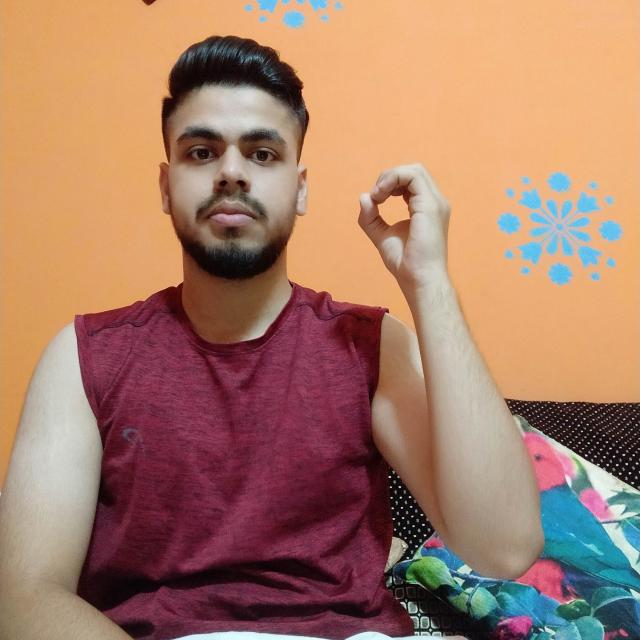O: (337, 156, 472, 292)
